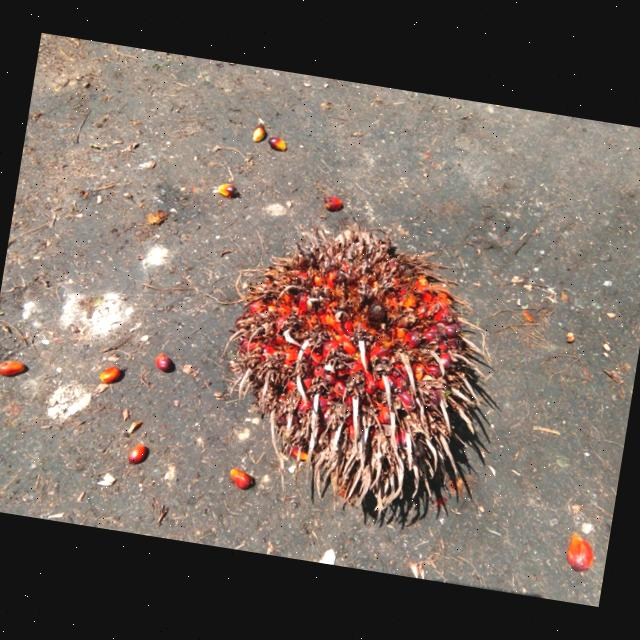Ripe: (223, 231, 494, 529)
